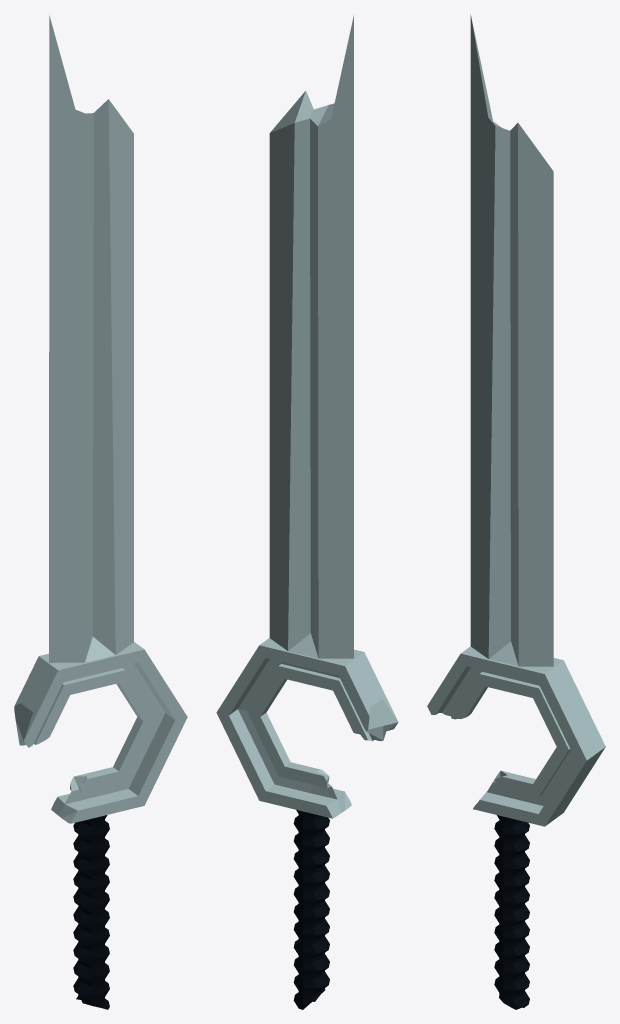
File: Sword_mk_1.fbx
The picture shows the model from 3 angles, left to right: view 1: azimuth 30°, elevation 25°; view 2: azimuth 150°, elevation 25°; view 3: azimuth 330°, elevation 25°; orthographic projection. The views are drawn at different scales.
Visible parts, largest first — view 1: Sword_mk_1; view 2: Sword_mk_1; view 3: Sword_mk_1.
Part boxes in pixels (x1=…): Sword_mk_1: x1=14, y1=15, x2=187, y2=1009; Sword_mk_1: x1=216, y1=15, x2=398, y2=1009; Sword_mk_1: x1=427, y1=14, x2=605, y2=1009.
Bounding box in the file's own units: 9.64 × 1.99 × 56.7.
